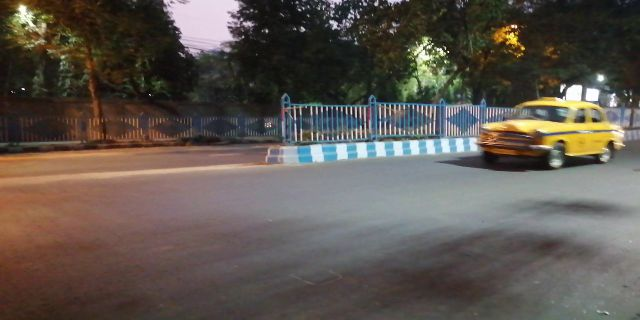Car: (477, 96, 630, 171)
